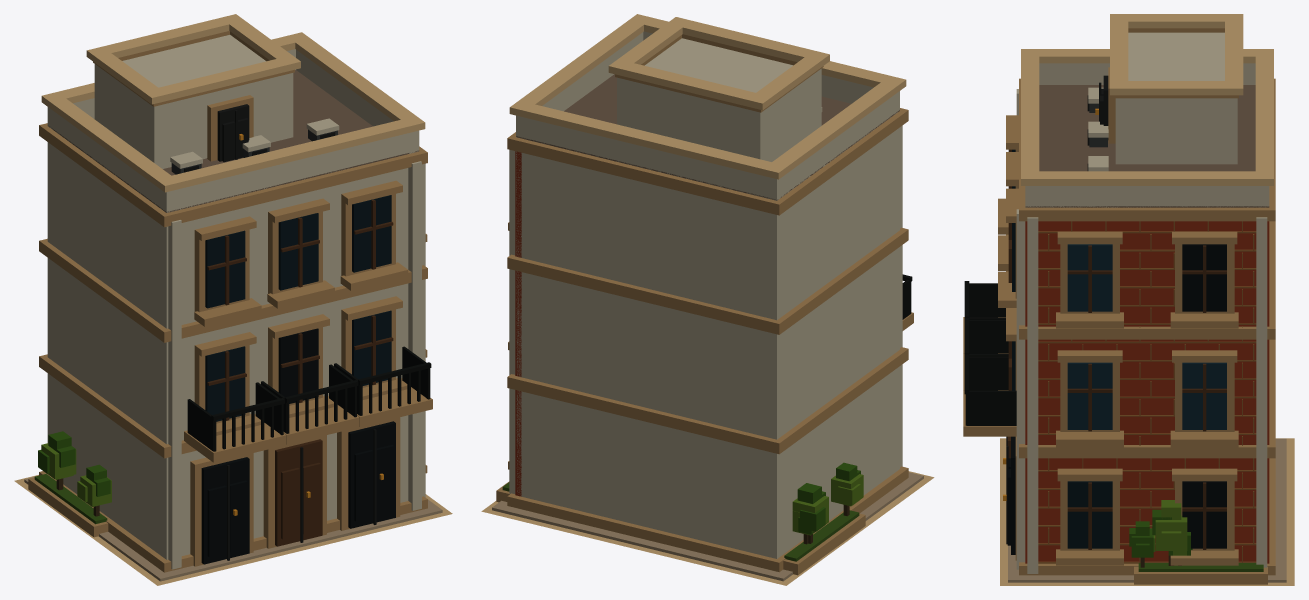
File: SM_Mapa_003.fbx
The picture shows the model from 3 angles, left to right: view 1: azimuth 30°, elevation 25°; view 2: azimuth 150°, elevation 25°; view 3: azimuth 270°, elevation 25°; orthographic projection. The views are drawn at different scales.
Parts seen in each view (by area): view 1: SM_Mapa_003; view 2: SM_Mapa_003; view 3: SM_Mapa_003.
Part boxes in pixels (box(x1,y1,x2,y2)): SM_Mapa_003: box(14, 14, 452, 585); SM_Mapa_003: box(481, 14, 934, 585); SM_Mapa_003: box(963, 14, 1294, 585).
Size of the model in its own units: 8 by 7.41 by 11.07.
